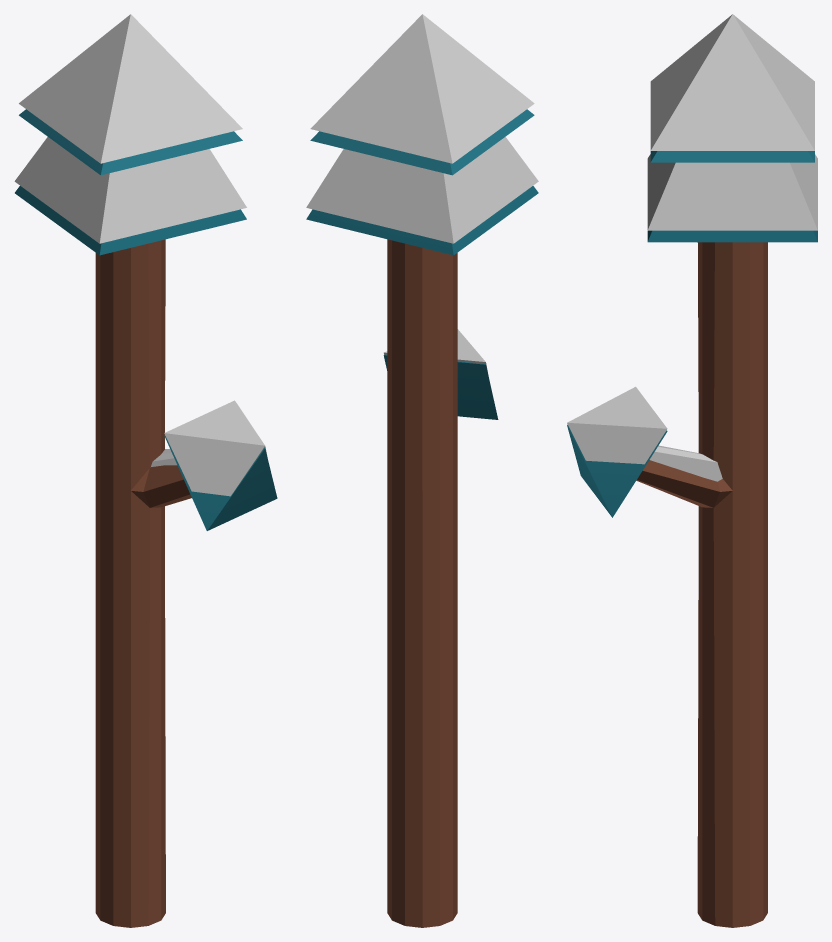
The model's file is Tree_25_winter_gradient_blue_vc.fbx.
The picture shows the model from 3 angles, left to right: view 1: azimuth 30°, elevation 25°; view 2: azimuth 150°, elevation 25°; view 3: azimuth 270°, elevation 25°; orthographic projection.
Visible parts, largest first — view 1: Tree_25_winter_gradient_blue_vc; view 2: Tree_25_winter_gradient_blue_vc; view 3: Tree_25_winter_gradient_blue_vc.
Boxes of the visible parts, x1=… form: Tree_25_winter_gradient_blue_vc: x1=14, y1=14, x2=277, y2=927; Tree_25_winter_gradient_blue_vc: x1=306, y1=14, x2=538, y2=927; Tree_25_winter_gradient_blue_vc: x1=567, y1=14, x2=817, y2=927.
Bounding box in the file's own units: 58.32 × 312 × 79.03.
